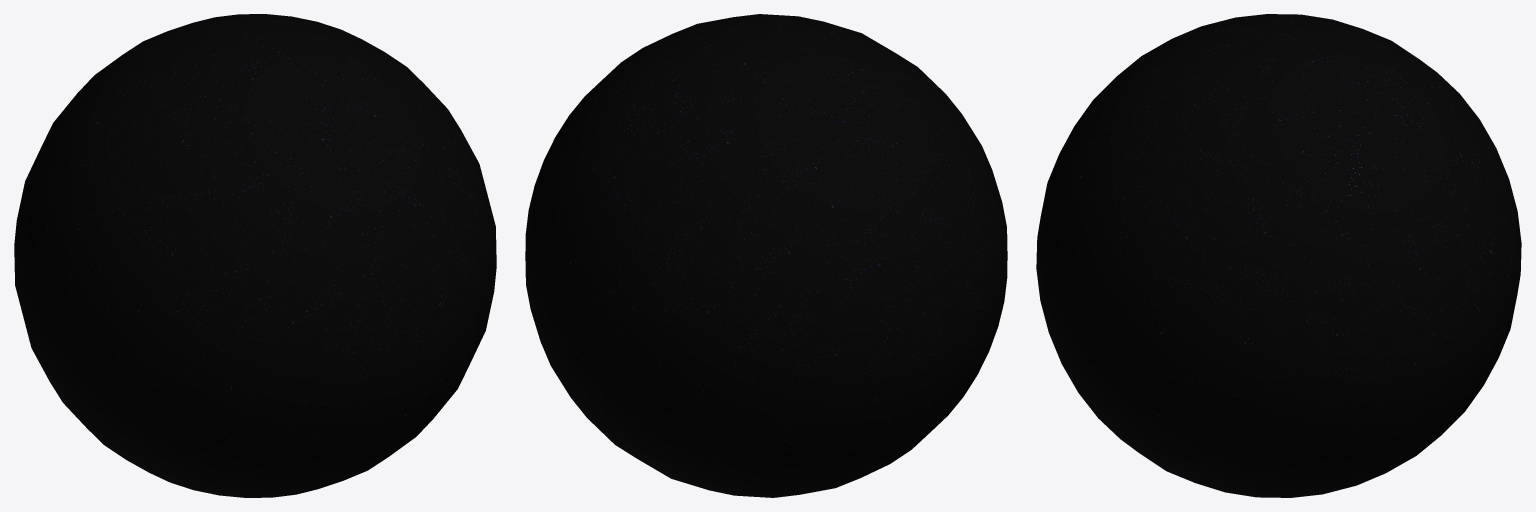
Rendered from bsd_sky1.fbx.
3 views of the same model, side by side, from view 1: azimuth 30°, elevation 25°; view 2: azimuth 150°, elevation 25°; view 3: azimuth 270°, elevation 25° (orthographic).
Parts seen in each view (by area): view 1: bsd_sky1; view 2: bsd_sky1; view 3: bsd_sky1.
Part boxes in pixels (box(x1,y1,x2,y2)): bsd_sky1: box(14, 14, 496, 497); bsd_sky1: box(525, 14, 1007, 497); bsd_sky1: box(1036, 14, 1521, 497).
Size of the model in its own units: 1.79 by 1.79 by 1.79.
